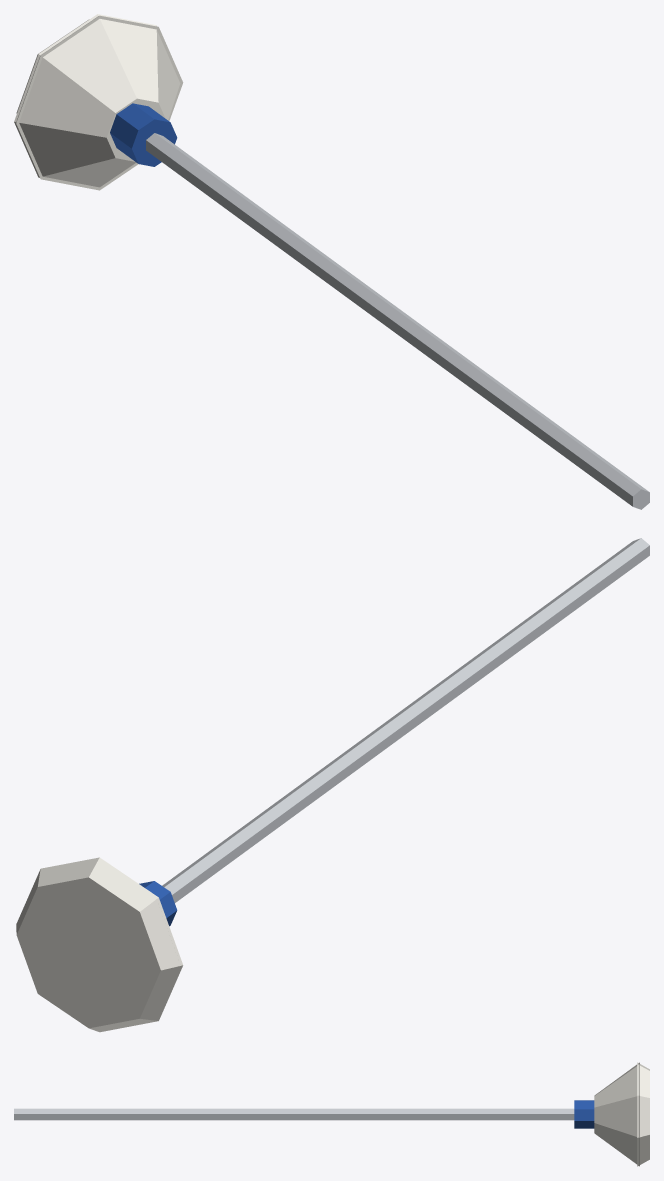
File: prop_mop.glb
The picture shows the model from 3 angles, top to bottom: view 1: azimuth 30°, elevation 25°; view 2: azimuth 150°, elevation 25°; view 3: azimuth 270°, elevation 25°; orthographic projection. The views are drawn at different scales.
Parts seen in each view (by area): view 1: PropMop; view 2: PropMop; view 3: PropMop.
Boxes of the visible parts, box(x1,y1,x2,y2) form: PropMop: box(14, 14, 649, 509); PropMop: box(16, 538, 649, 1032); PropMop: box(14, 1062, 649, 1166).
Size of the model in its own units: 0.22 by 0.22 by 1.26.
